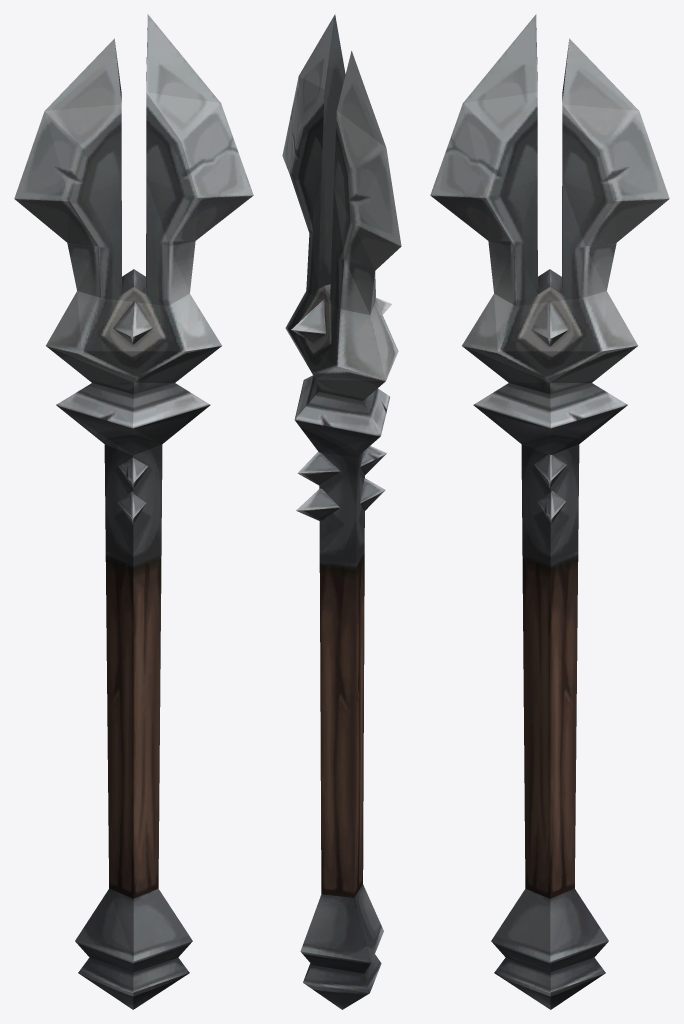
Rendered from polearm_04.fbx.
3 renders of one model, left to right at view 1: azimuth 90°, elevation 25°; view 2: azimuth 210°, elevation 25°; view 3: azimuth 270°, elevation 25°, orthographic.
Parts seen in each view (by area): view 1: polearm_04; view 2: polearm_04; view 3: polearm_04.
Boxes of the visible parts, x1,y1,x2,y2 form: polearm_04: (14, 14, 253, 1009); polearm_04: (282, 14, 401, 1009); polearm_04: (430, 14, 669, 1009).
Bounding box in the file's own units: 0.333 × 3.12 × 0.6808.
